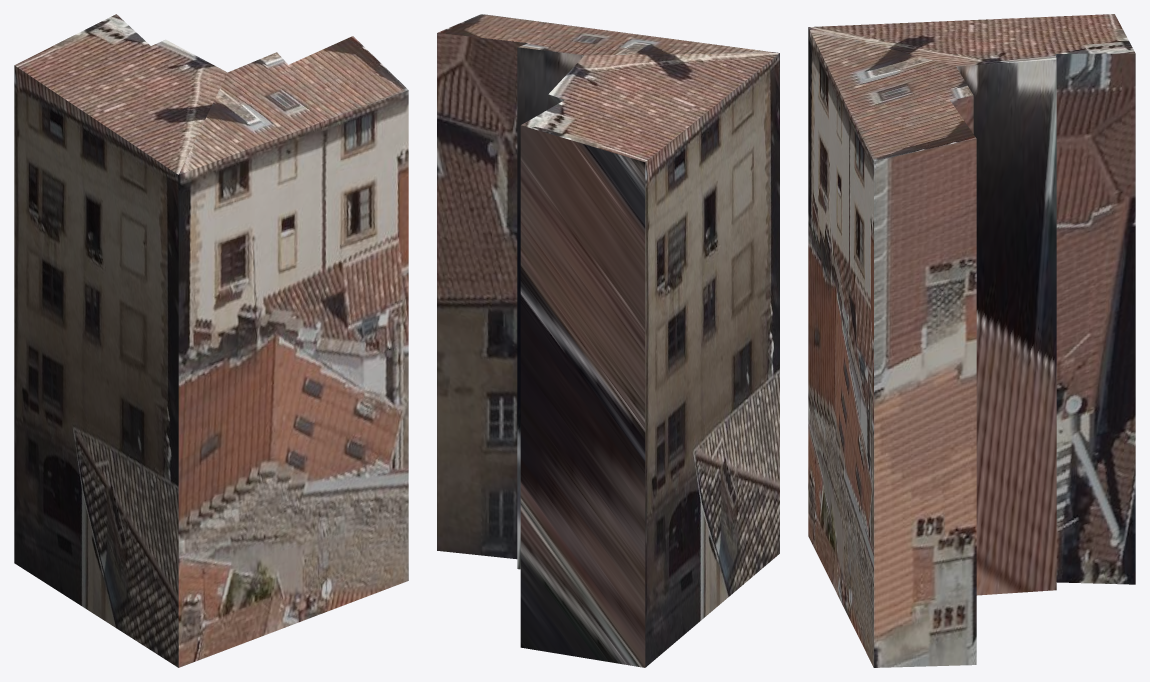
3 views of the same model, side by side, from view 1: azimuth 30°, elevation 25°; view 2: azimuth 150°, elevation 25°; view 3: azimuth 270°, elevation 25° (orthographic). The views are drawn at different scales.
Visible parts, largest first — view 1: Z_UP; view 2: Z_UP; view 3: Z_UP.
Part boxes in pixels (x1,y1,x2,y2): Z_UP: (14,14,408,667); Z_UP: (437,14,779,667); Z_UP: (808,14,1135,667).
Bounding box in the file's own units: 11.94 × 21.14 × 11.81.
2 materials, 1 textured.
